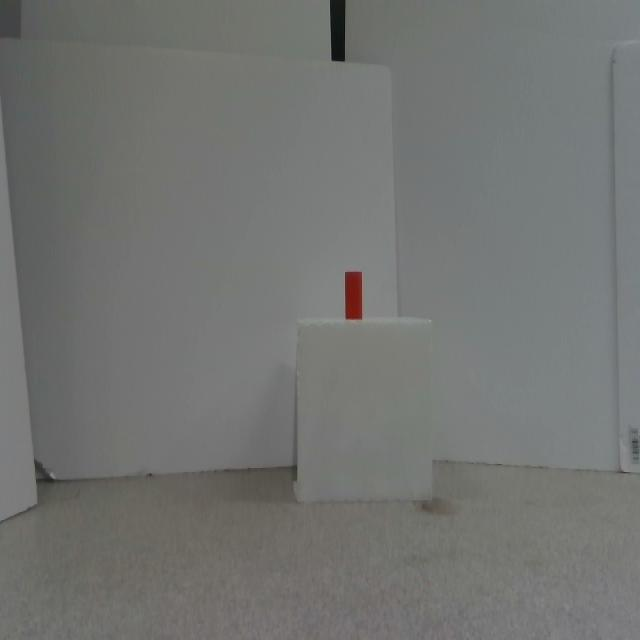red_cylinder: (345, 272, 362, 319)
